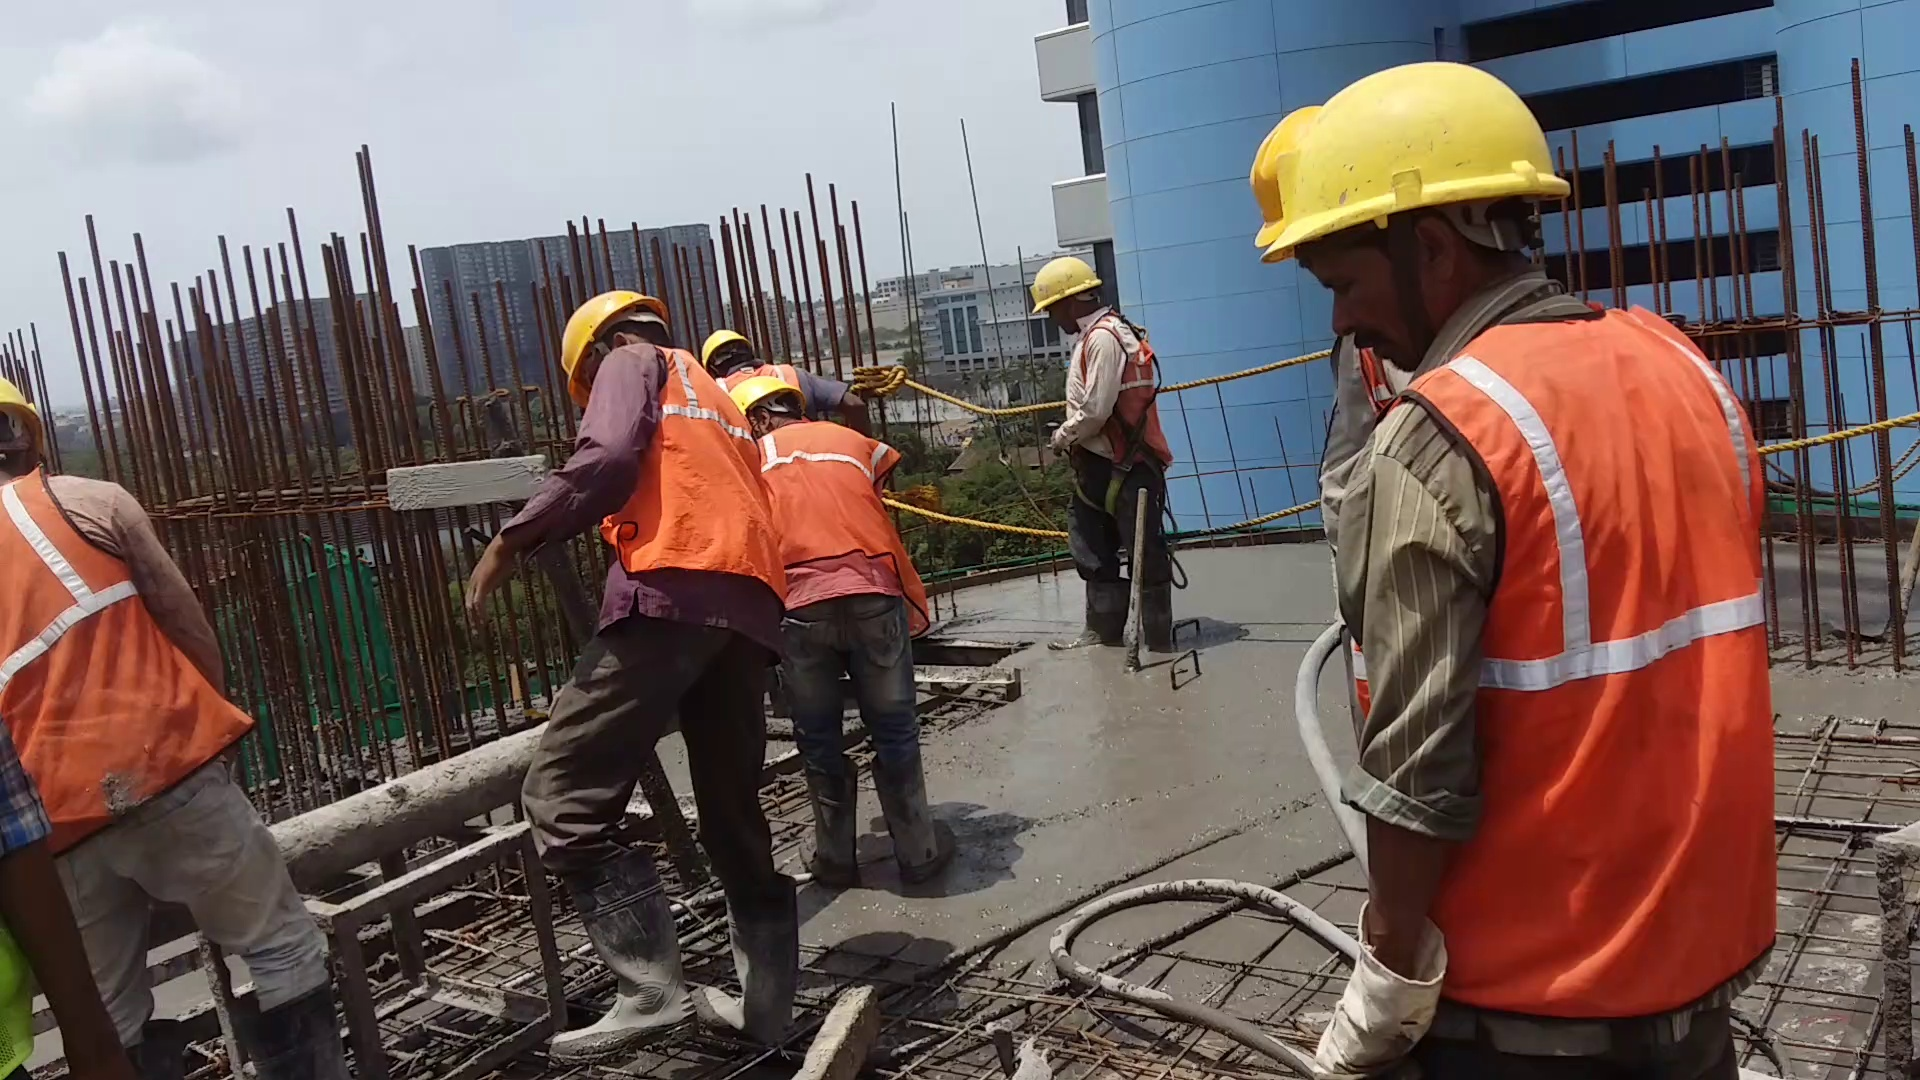SAFE: (1319, 63, 1764, 992), (572, 286, 744, 584), (746, 368, 895, 621), (1030, 256, 1163, 472)
